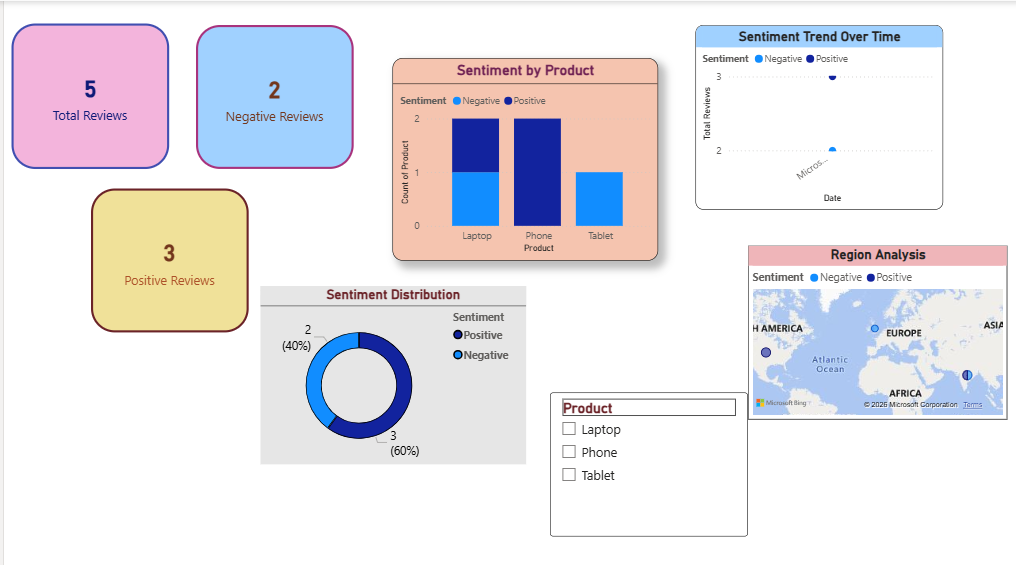

The page's visual inventory and layout, read from the dashboard file:
{"tool":"powerbi","page":{"name":"Page 1","canvas":[1280,720],"ordinal":0},"visuals":[{"type":"card","fields":{"Values":["FactReviews.Total Reviews"]},"box":[9.4,28.3,198.4,183.3],"z":0},{"type":"card","fields":{"Values":["FactReviews.Positive Reviews"]},"box":[109.6,236.2,198.4,181.4],"z":1},{"type":"donutChart","title":"Sentiment Distribution","fields":{"Category":["FactReviews.Sentiment"],"Y":["FactReviews.Total Reviews"]},"box":[323.2,359.1,334.5,224.9],"z":3},{"type":"columnChart","title":"Sentiment by Product","fields":{"Series":["FactReviews.Sentiment"],"Category":["FactReviews.Product"],"Y":["CountNonNull(FactReviews.Product)"]},"box":[489.5,71.8,334.5,255.1],"z":4},{"type":"lineChart","title":"Sentiment Trend Over Time","fields":{"Category":["FactReviews.Date"],"Series":["FactReviews.Sentiment"],"Y":["FactReviews.Total Reviews"]},"box":[871.2,30.2,311.8,232.4],"z":5},{"type":"map","title":"Region Analysis","fields":{"Size":["CountNonNull(FactReviews.Region)"],"Category":["FactReviews.Region"],"Series":["FactReviews.Sentiment"]},"box":[937.3,308,326.9,219.2],"z":6},{"type":"card","fields":{"Values":["FactReviews.Negative Reviews"]},"box":[241.9,30.2,198.4,181.4],"z":8},{"type":"slicer","fields":{"Values":["FactReviews.Product"]},"box":[687.9,493.2,249.5,181.4],"z":9}]}

Visuals, with their boxes in screenshot pixels (x1, y1, x2, y2), scaled from the page's 1280x720 canvas onto the 1016x565 screenshot:
card - FactReviews.Total Reviews: left=7, top=22, right=165, bottom=166
card - FactReviews.Positive Reviews: left=87, top=185, right=244, bottom=328
"Sentiment Distribution" donutChart: left=257, top=282, right=522, bottom=458
"Sentiment by Product" columnChart: left=389, top=56, right=654, bottom=257
"Sentiment Trend Over Time" lineChart: left=692, top=24, right=939, bottom=206
"Region Analysis" map: left=744, top=242, right=1003, bottom=414
card - FactReviews.Negative Reviews: left=192, top=24, right=349, bottom=166
slicer - FactReviews.Product: left=546, top=387, right=744, bottom=529
